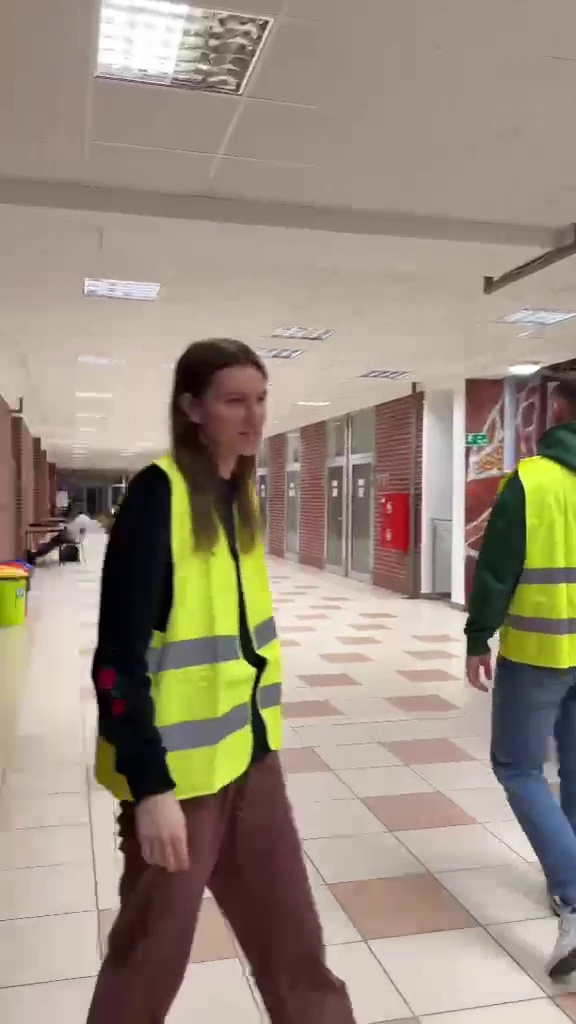vest: (81, 337, 362, 1014), (477, 374, 576, 965)
